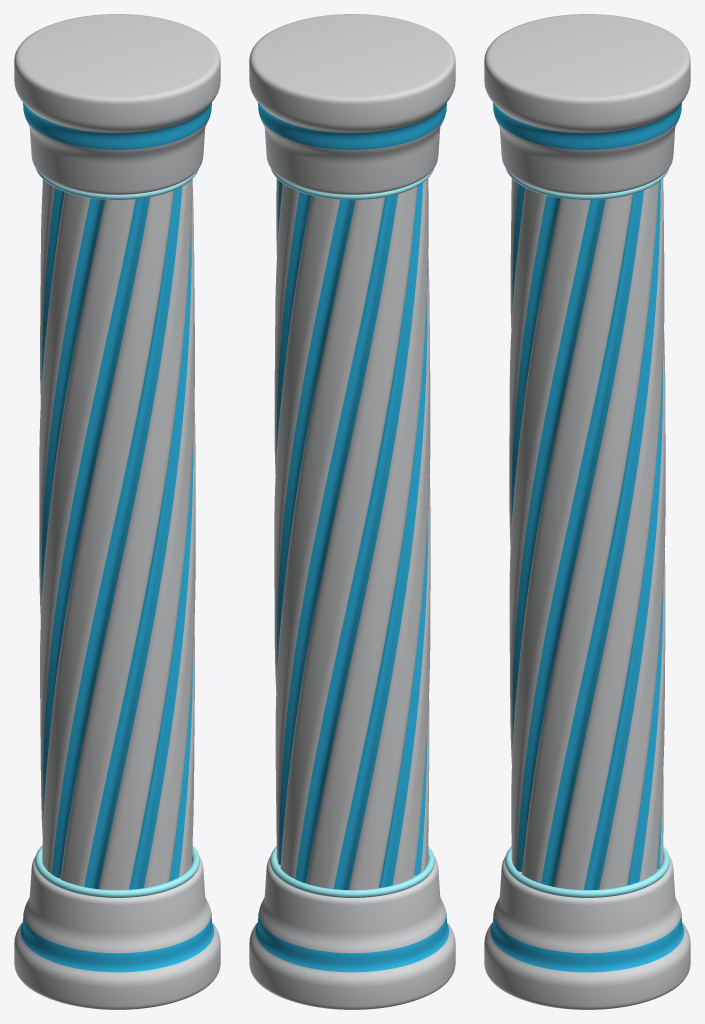
File: Pillar_D02_HelixFlute.fbx
The picture shows the model from 3 angles, left to right: view 1: azimuth 30°, elevation 25°; view 2: azimuth 150°, elevation 25°; view 3: azimuth 270°, elevation 25°; orthographic projection.
Parts seen in each view (by area): view 1: Pillar_D02_HelixFlute; view 2: Pillar_D02_HelixFlute; view 3: Pillar_D02_HelixFlute.
Part boxes in pixels (bbox=[...]): Pillar_D02_HelixFlute: bbox=[14, 14, 220, 1009]; Pillar_D02_HelixFlute: bbox=[249, 14, 455, 1009]; Pillar_D02_HelixFlute: bbox=[484, 14, 690, 1009].
Size of the model in its own units: 0.82 by 4 by 0.82.
